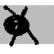not correct: (1, 4, 40, 50)
